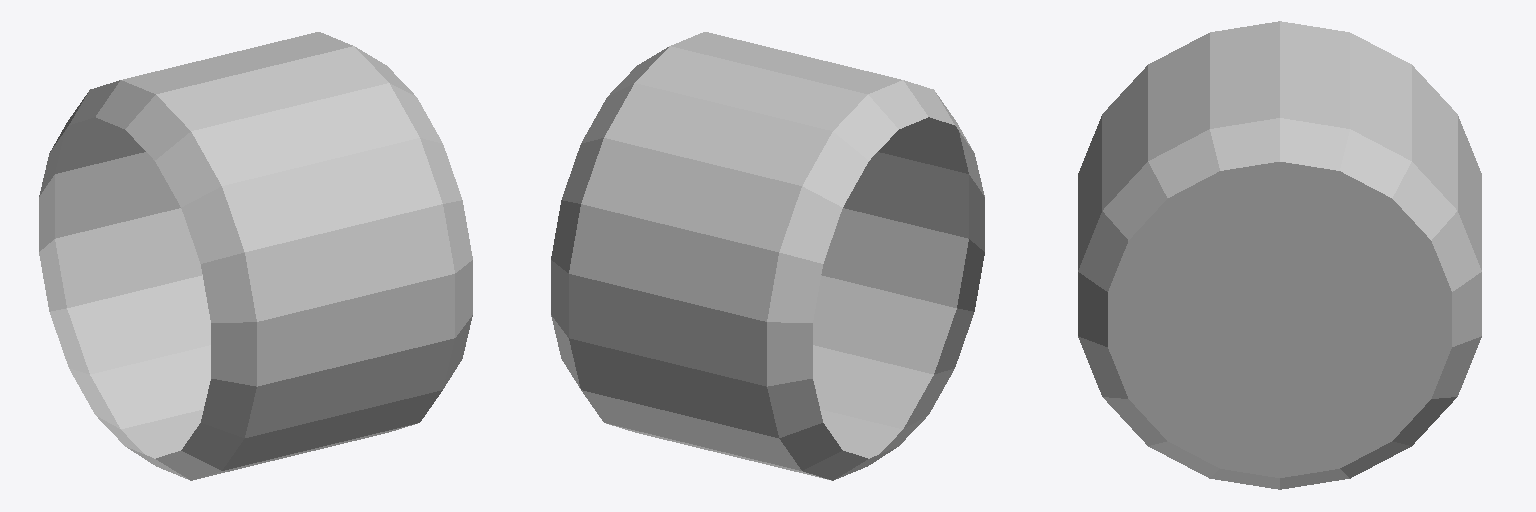
Rendered from Tire back left unwrapped.obj.
3 views of the same model, side by side, from view 1: azimuth 30°, elevation 25°; view 2: azimuth 150°, elevation 25°; view 3: azimuth 270°, elevation 25° (orthographic).
Parts seen in each view (by area): view 1: CarWorldfullTireBackLeft; view 2: CarWorldfullTireBackLeft; view 3: CarWorldfullTireBackLeft.
Boxes of the visible parts, <box> form: CarWorldfullTireBackLeft: <box>39,32,472,480</box>; CarWorldfullTireBackLeft: <box>551,32,984,480</box>; CarWorldfullTireBackLeft: <box>1078,21,1481,489</box>.
Size of the model in its own units: 25.27 by 34.28 by 33.76.